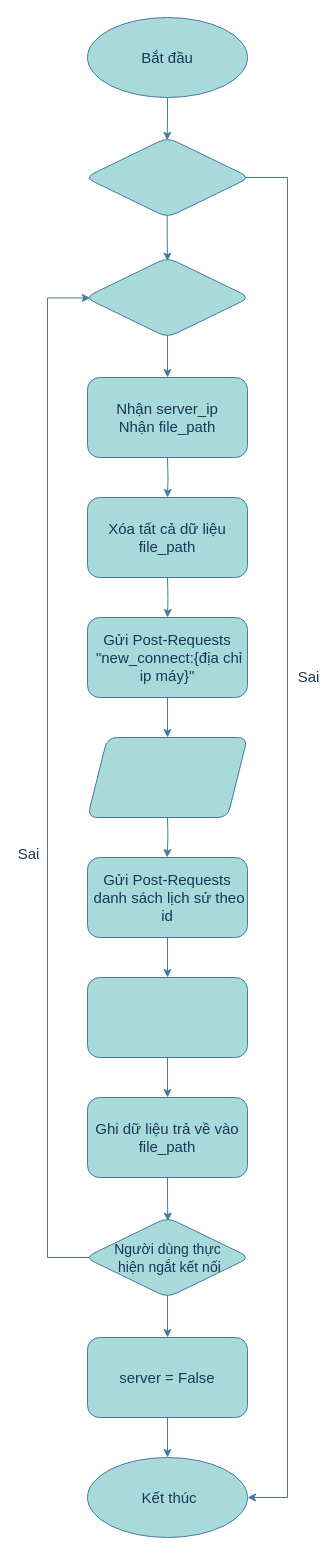
Image size: 336x1555. Some labels were removed from this diagram. The shapes that lost their labels are listed below. From the top down, each one's box as (x1, y1, x2, y2) in pixels, then its label:
(84, 136, 250, 218): Người dùng thực hiện kết nối
(84, 256, 250, 338): server = True
(86, 736, 248, 818): server_id = {dữ liệu trả về}
(86, 976, 248, 1058): Gửi Post-Requests "get_blacklist:blacklist"
